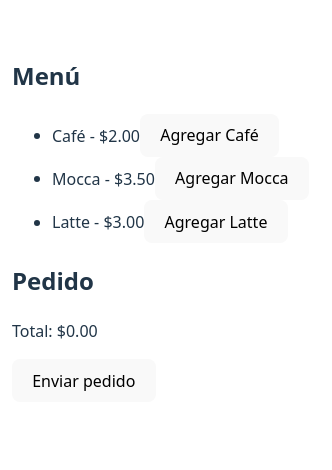
Test: envía el pedido y confirma
Click the button "Agregar Café": click(210, 135) x1=140 y1=114 x2=279 y2=157
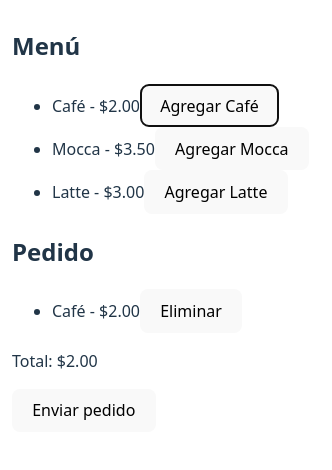
Click the button "Agregar Mocca": click(232, 149) x1=155 y1=127 x2=309 y2=170
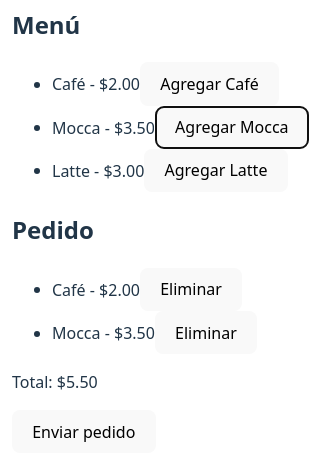
Click the button "Enviar pedido": click(84, 432) x1=12 y1=410 x2=156 y2=453
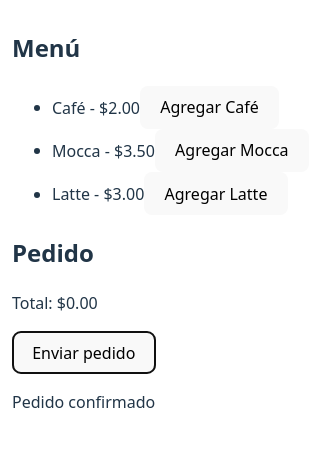
Expected: the text "Pedido confirmado" is shown, x1=12 y1=391 x2=155 y2=413
